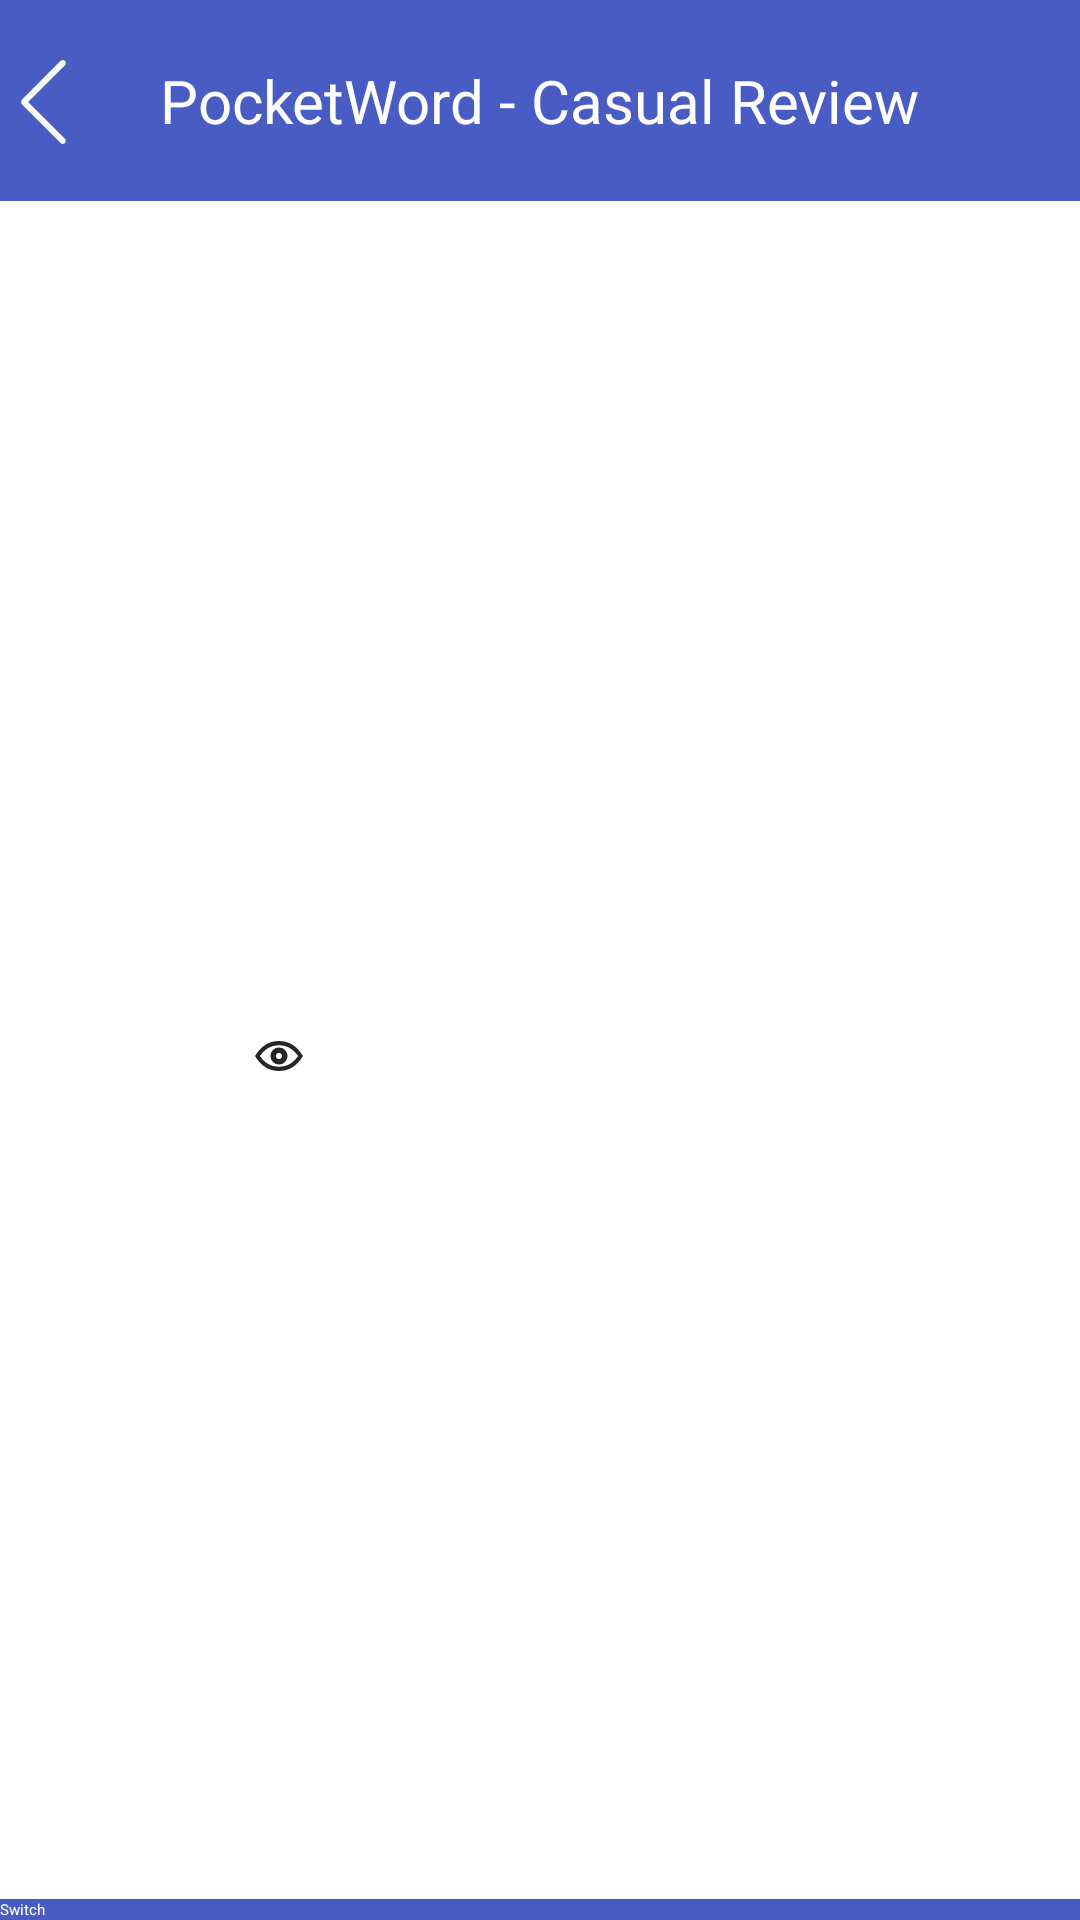

Locate icon controls on the screen. Image size 1080 x 1920, boxes as bbox(x1, y1, x2, y2).
back: bbox(21, 60, 66, 144)
eye: bbox(255, 1041, 303, 1071)
